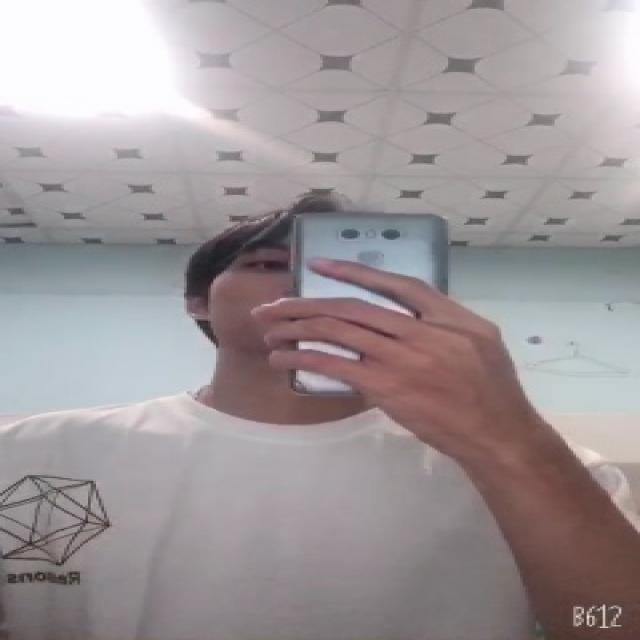Phone: (285, 207, 446, 400)
